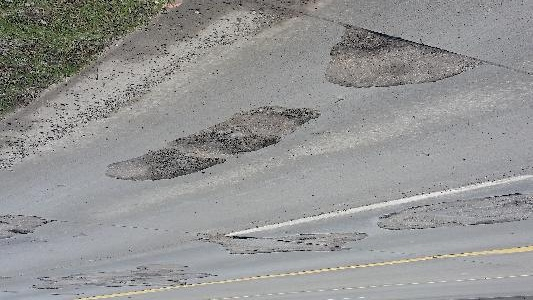pothole: (177, 130, 281, 153), (145, 153, 224, 183), (336, 27, 398, 53)
